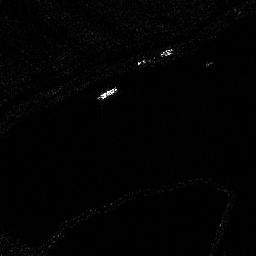ship: (136, 47, 176, 66), (99, 87, 119, 100)
